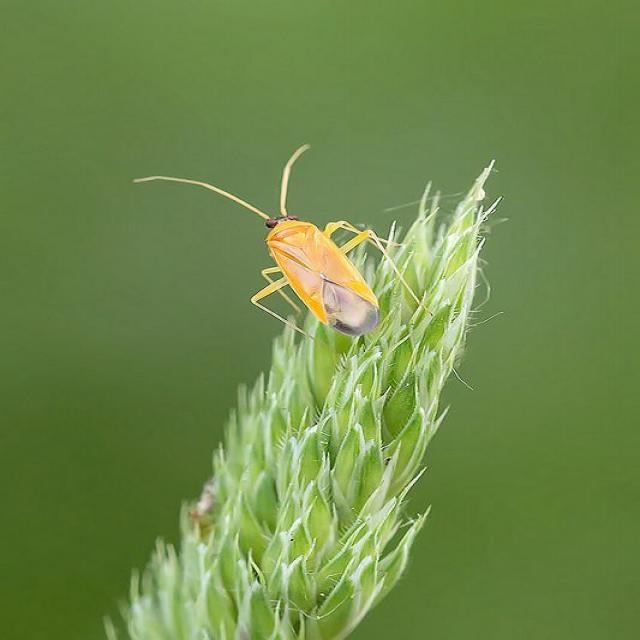Miridae-Adult-: (128, 142, 453, 354)
